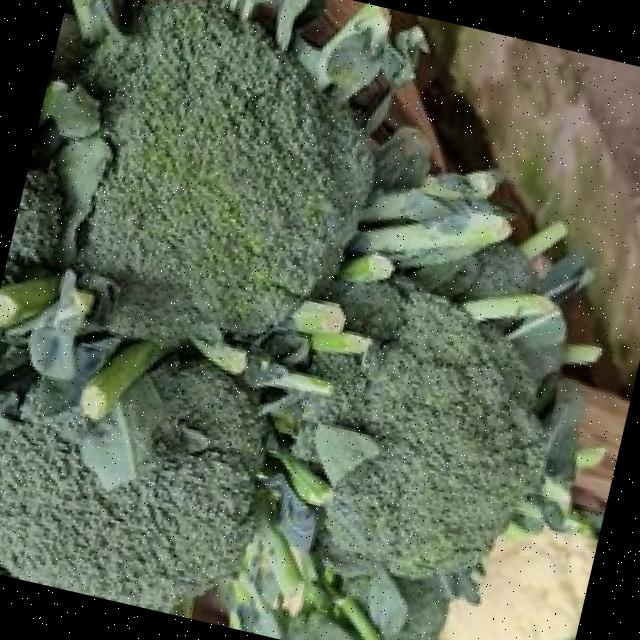Broccoli: (75, 3, 372, 344), (75, 3, 371, 344), (295, 277, 542, 576), (296, 276, 541, 577), (0, 359, 261, 610), (0, 374, 256, 609)
